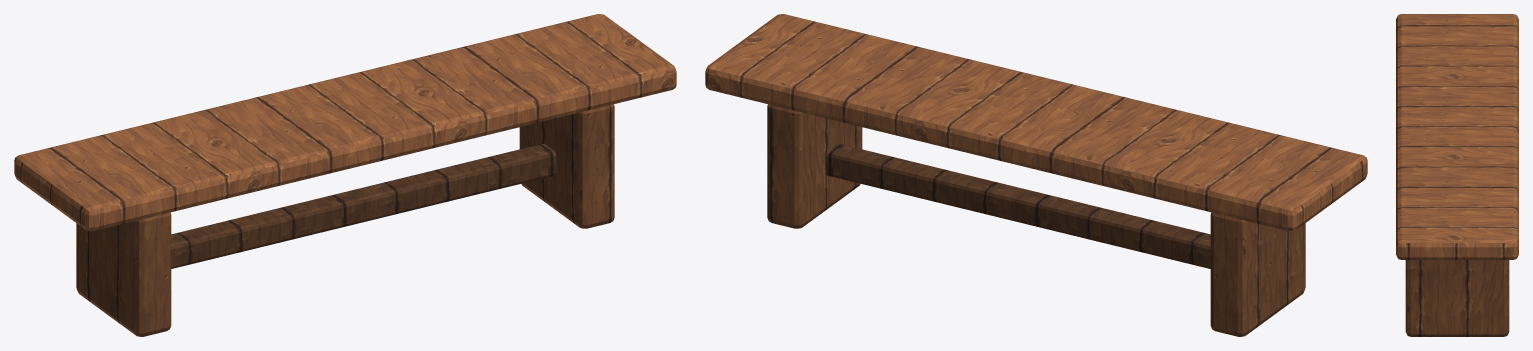
Rendered from bench__plank_root.glb.
3 renders of one model, left to right at view 1: azimuth 30°, elevation 25°; view 2: azimuth 150°, elevation 25°; view 3: azimuth 270°, elevation 25°, orthographic. The views are drawn at different scales.
Parts seen in each view (by area): view 1: model; view 2: model; view 3: model.
Boxes of the visible parts, x1,y1,x2,y2 form: model: (14, 14, 676, 336); model: (705, 14, 1367, 336); model: (1396, 14, 1518, 336).
Bounding box in the file's own units: 2 × 0.48 × 0.45.
3 materials, 3 textured.
